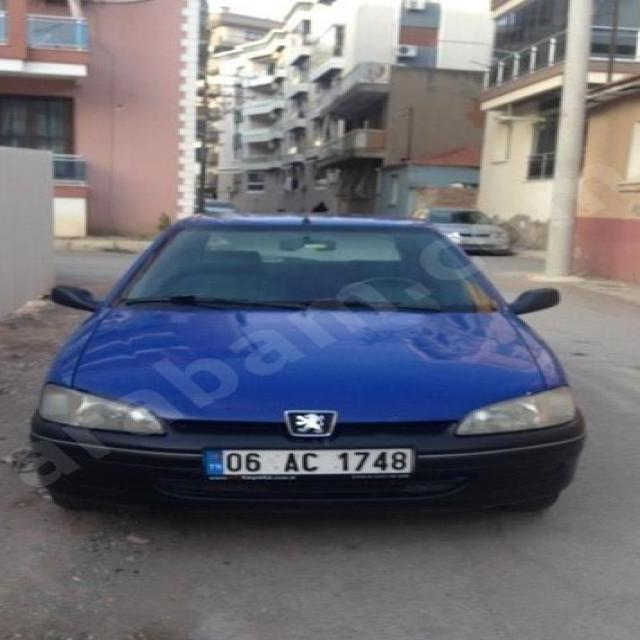license_plate: (200, 446, 415, 475)
